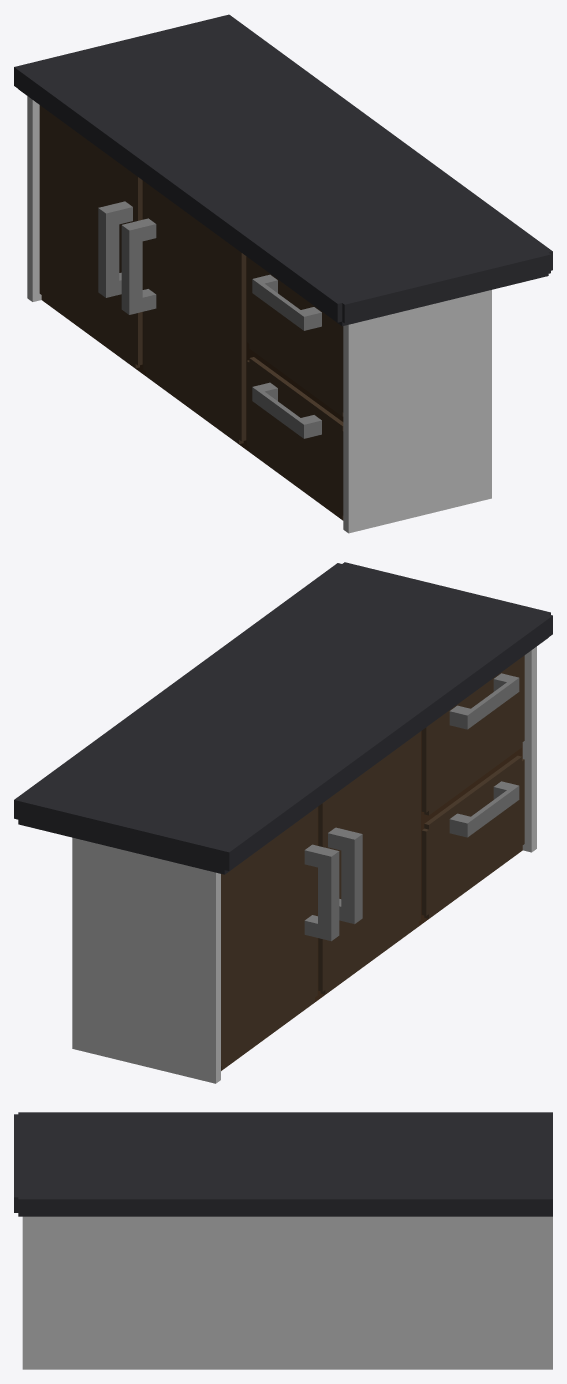
File: kitchentbenches-2.obj
3 views of the same model, one above another, from view 1: azimuth 30°, elevation 25°; view 2: azimuth 150°, elevation 25°; view 3: azimuth 270°, elevation 25° (orthographic). The views are drawn at different scales.
Size of the model in its own units: 5 by 5 by 12.6.
1 material, 1 textured.
